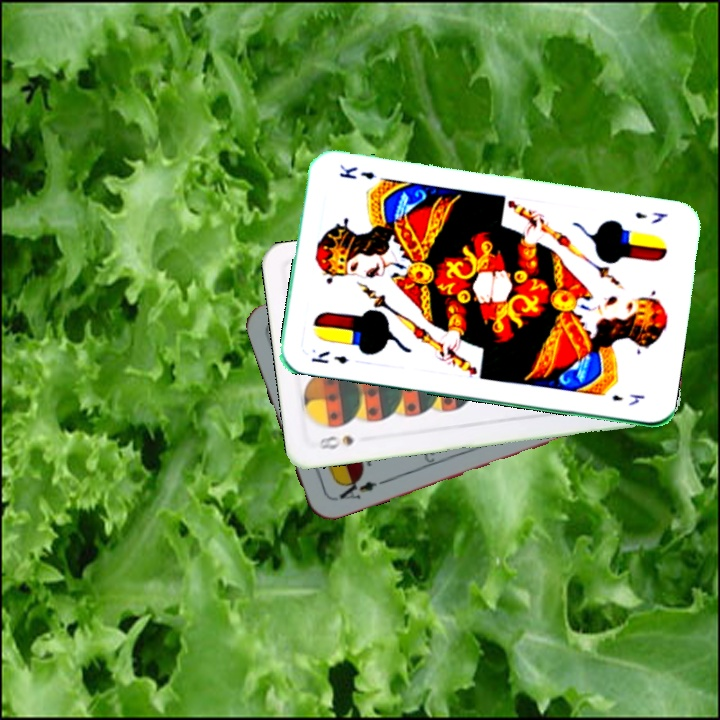EA: (329, 473, 380, 504)
EK: (307, 347, 351, 367), (631, 207, 671, 226)
S8: (310, 431, 357, 452)
